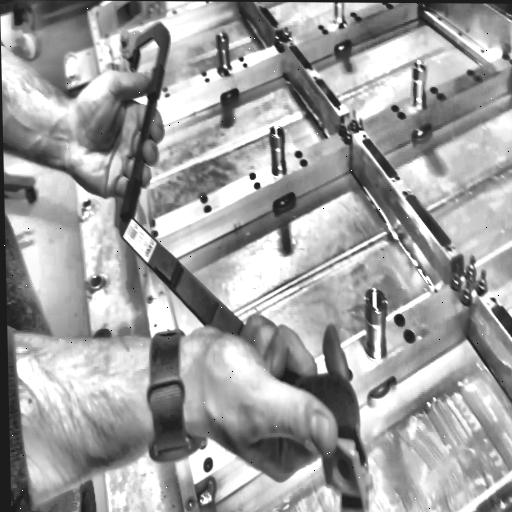busbar: (118, 14, 374, 512)
